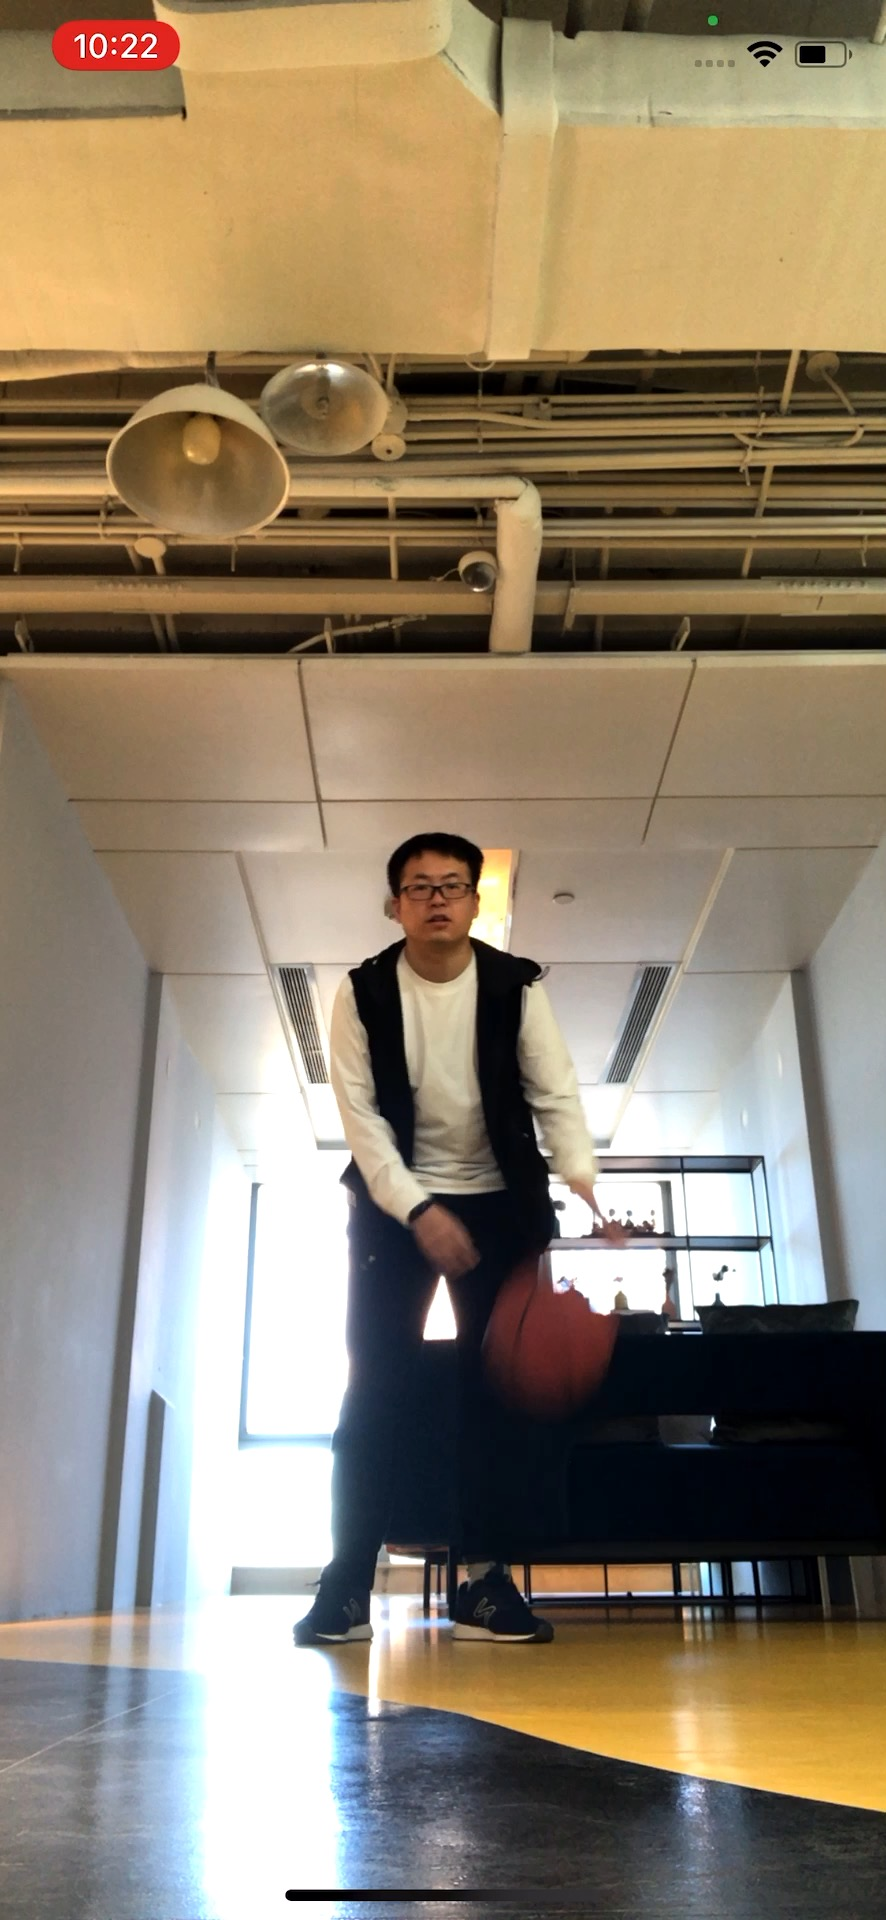ball: (485, 1284, 614, 1396)
